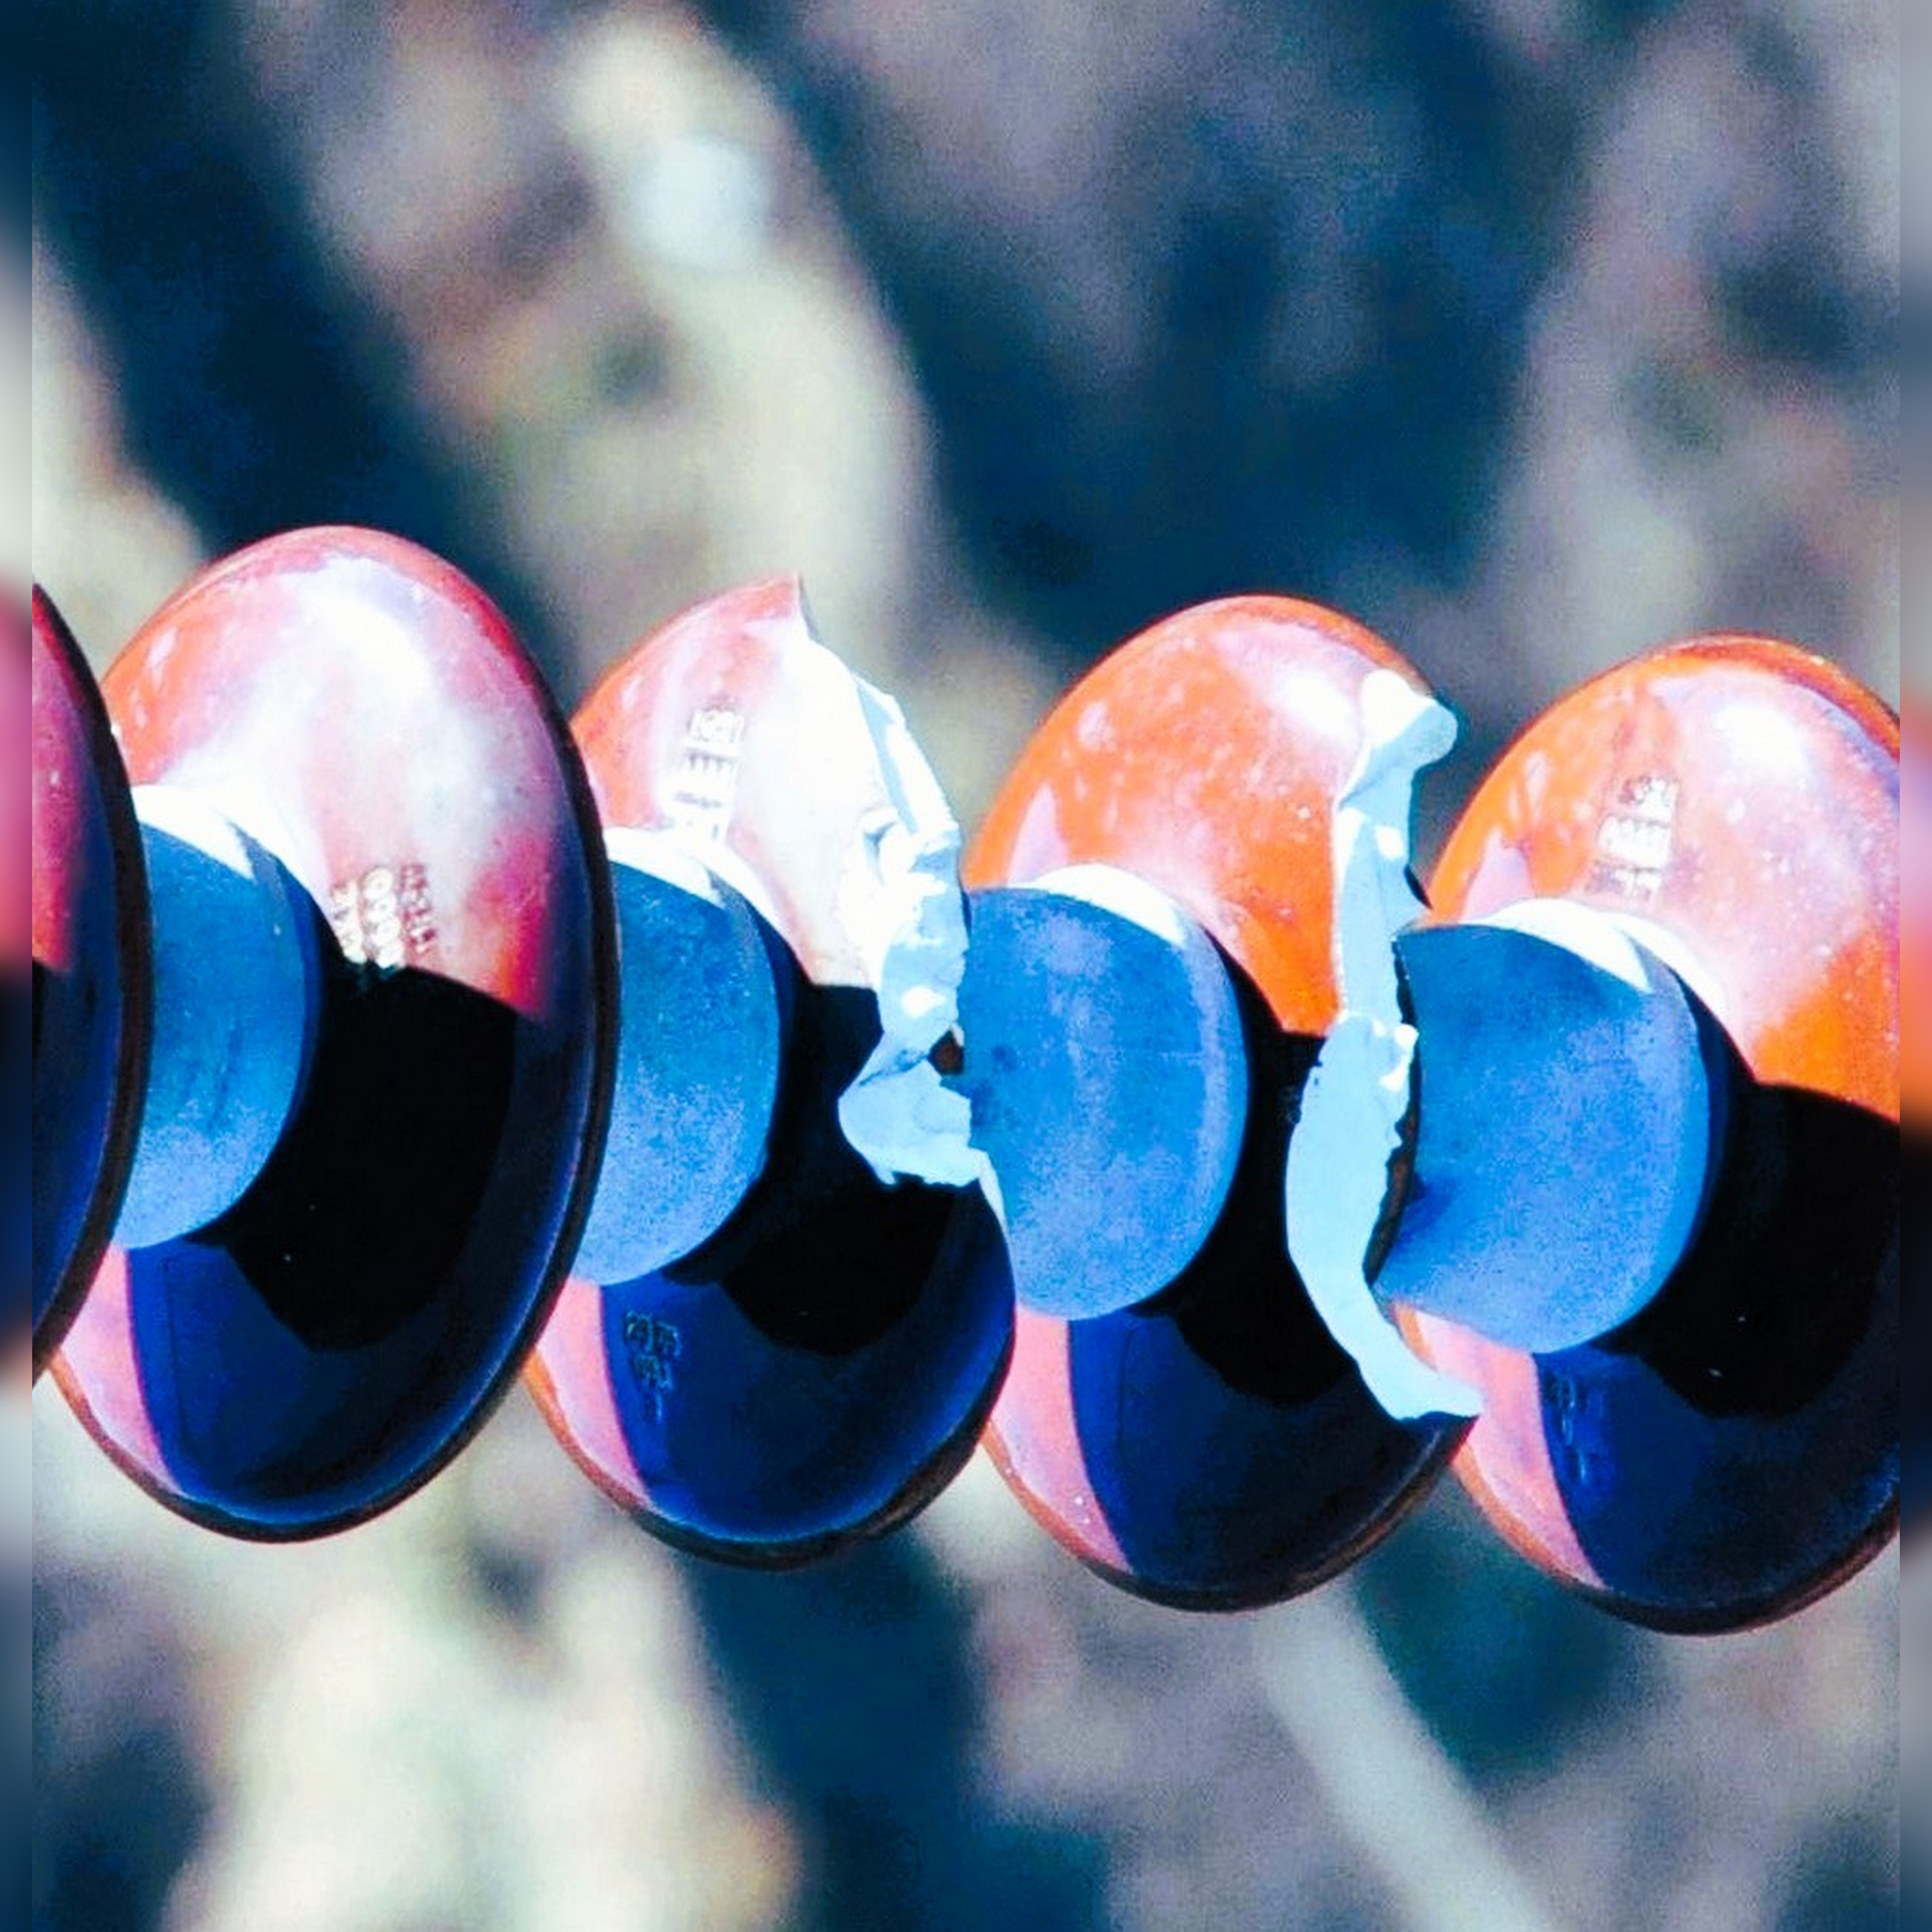insulator breakage: (517, 554, 1056, 1568), (1076, 616, 1506, 1651)
